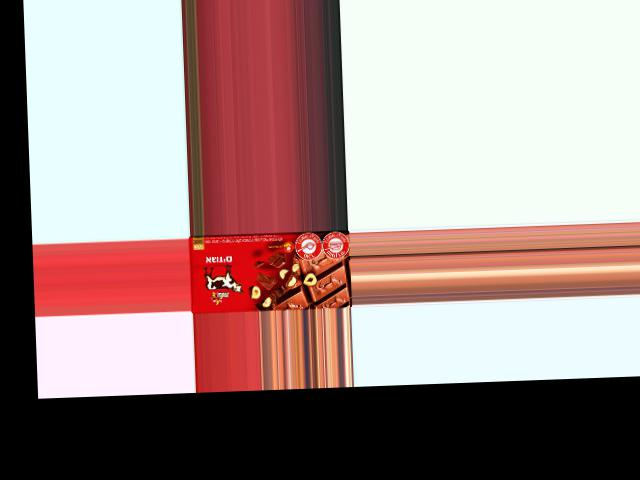chocolate: (188, 232, 351, 312)
